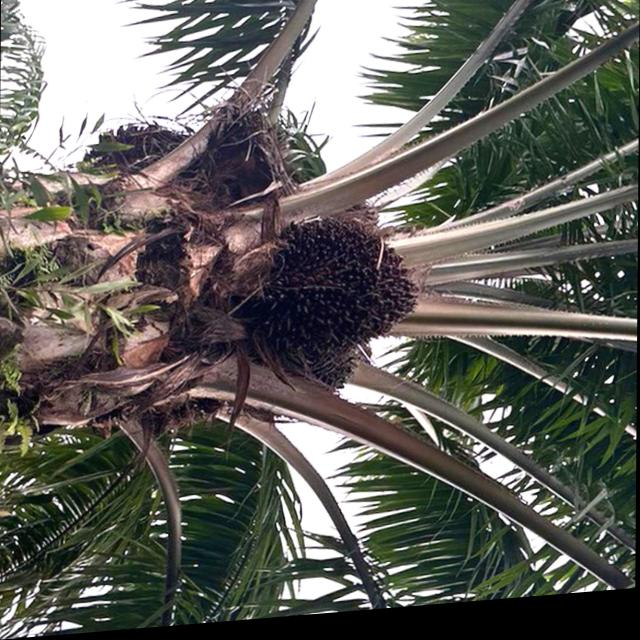ripe: (260, 202, 427, 398)
